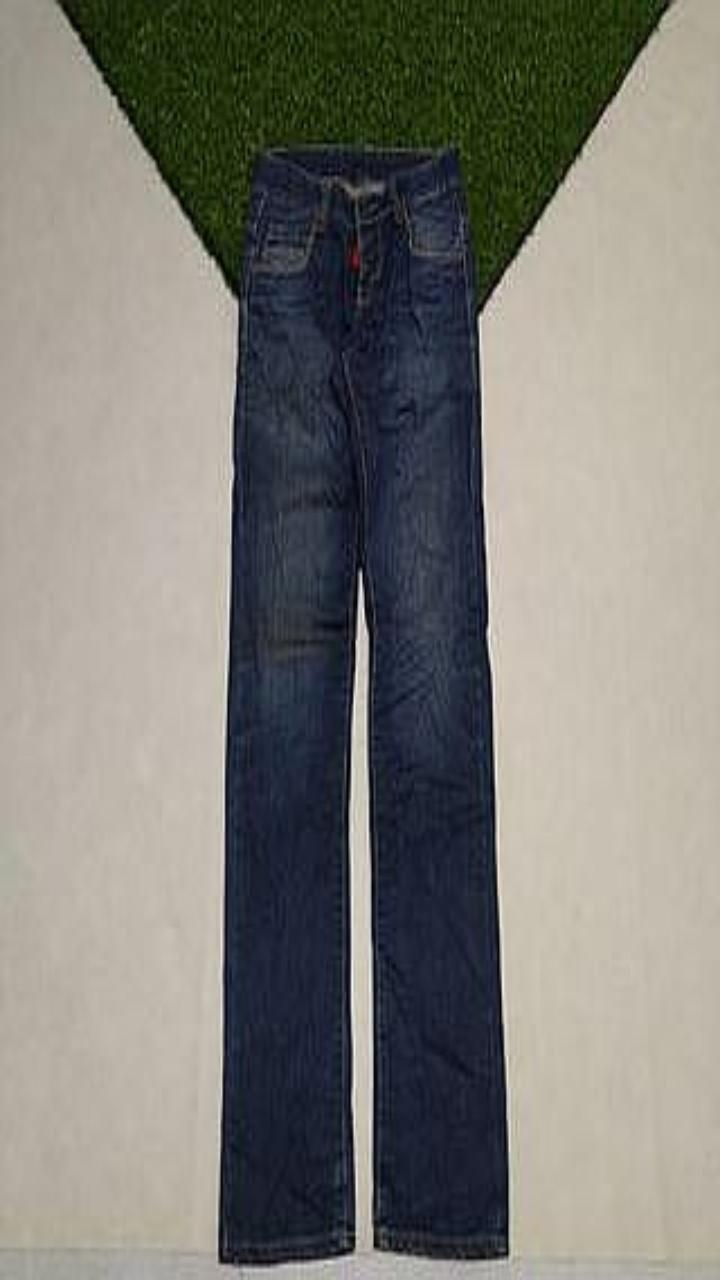Jeans: (218, 145, 507, 1262)
